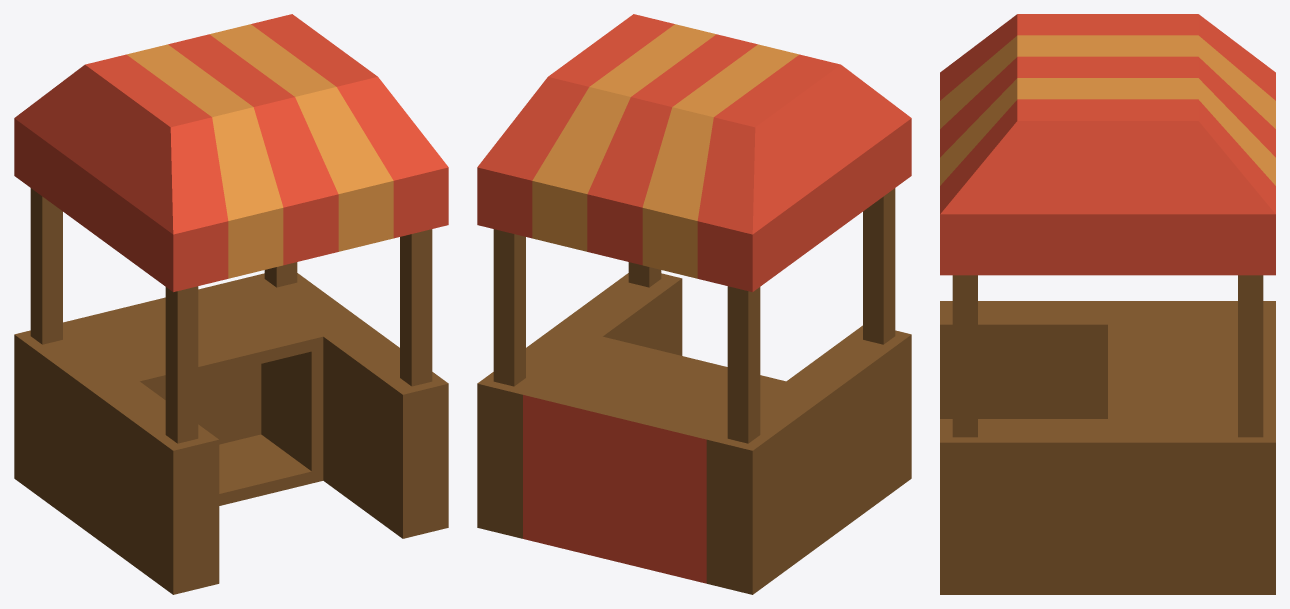
The model's file is Food Stall.fbx.
3 views of the same model, side by side, from view 1: azimuth 30°, elevation 25°; view 2: azimuth 150°, elevation 25°; view 3: azimuth 270°, elevation 25° (orthographic). The views are drawn at different scales.
Visible parts, largest first — view 1: Cube.003; view 2: Cube.003; view 3: Cube.003.
Part boxes in pixels (x1,y1,x2,y2): Cube.003: (14, 14, 448, 594); Cube.003: (477, 14, 911, 594); Cube.003: (940, 14, 1275, 594).
Bounding box in the file's own units: 200 × 300 × 200.
